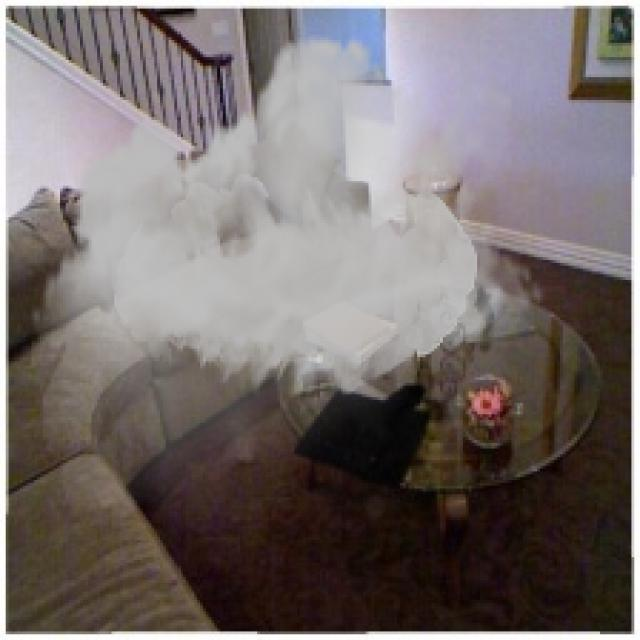smoke: (31, 14, 546, 546)
